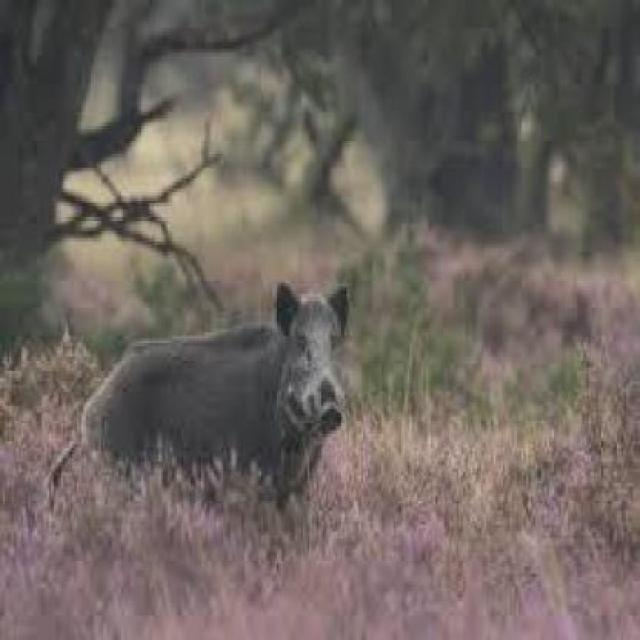wildboar: (40, 276, 354, 530)
